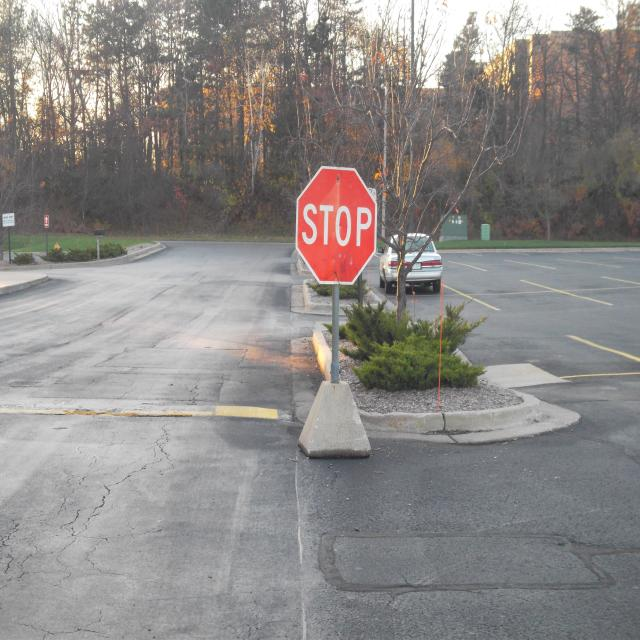stop: (294, 163, 379, 288)
